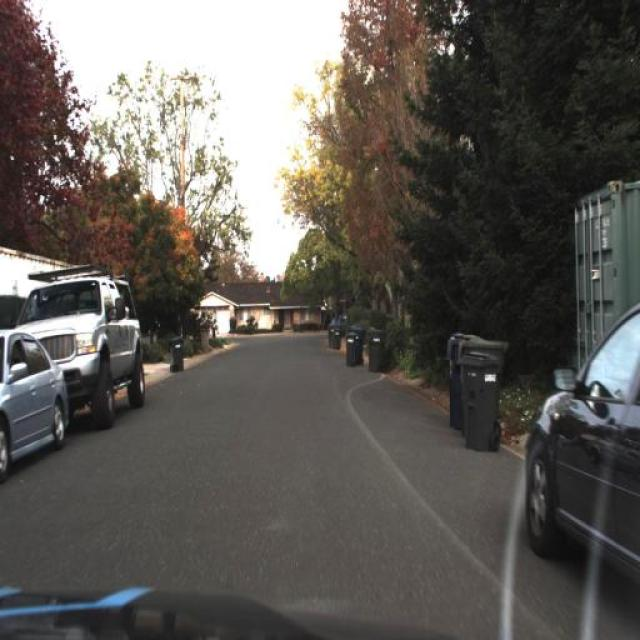car: (524, 295, 640, 591), (19, 268, 147, 432), (0, 328, 70, 473)
